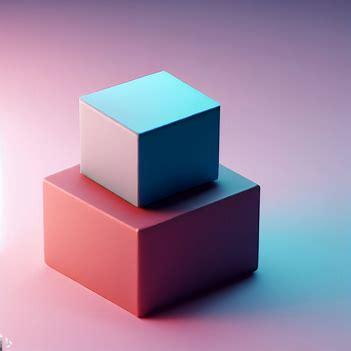cube: (76, 70, 222, 203)
